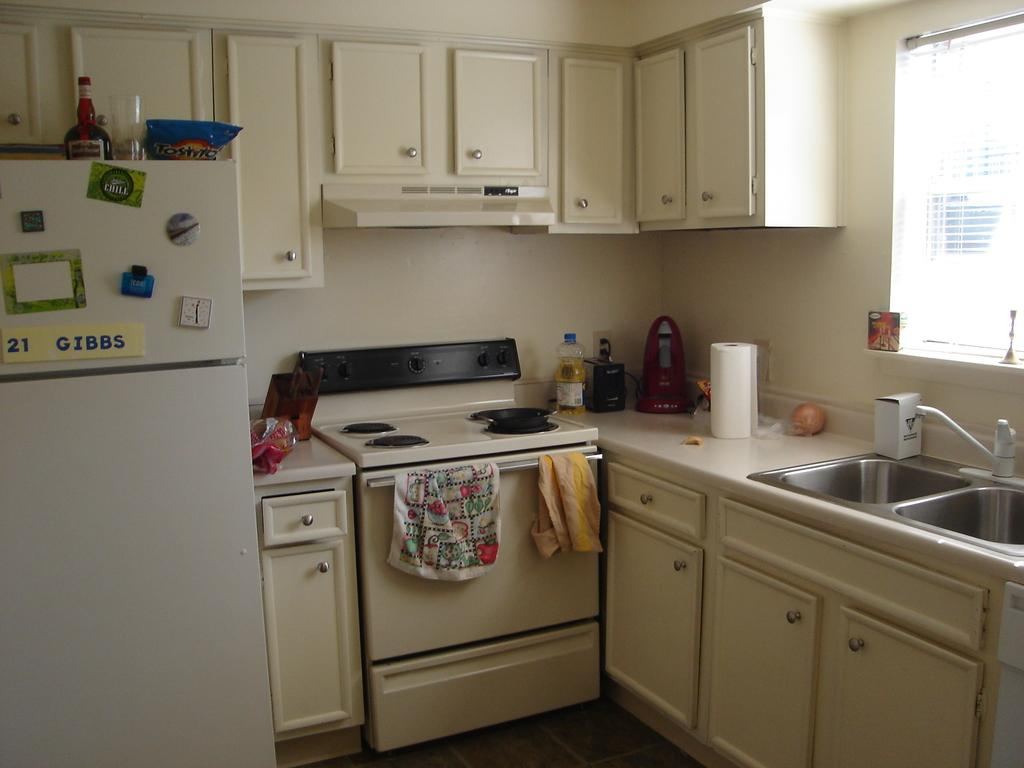cabinet_door: (734, 510, 978, 620), (712, 564, 814, 768), (233, 46, 316, 276), (844, 626, 963, 768), (609, 527, 703, 701), (442, 48, 550, 181), (84, 31, 205, 144), (326, 47, 432, 172), (269, 552, 347, 712), (557, 62, 627, 226), (687, 44, 751, 211), (633, 54, 685, 222), (622, 466, 696, 528), (260, 494, 343, 541)
handle: (372, 466, 596, 484), (88, 358, 214, 386), (457, 142, 491, 168), (398, 138, 424, 168), (280, 243, 302, 273), (668, 552, 690, 580), (846, 632, 868, 660), (698, 184, 718, 210), (636, 488, 654, 514), (658, 188, 674, 216), (576, 196, 594, 218), (315, 552, 333, 574), (787, 608, 803, 629), (303, 510, 315, 528)
